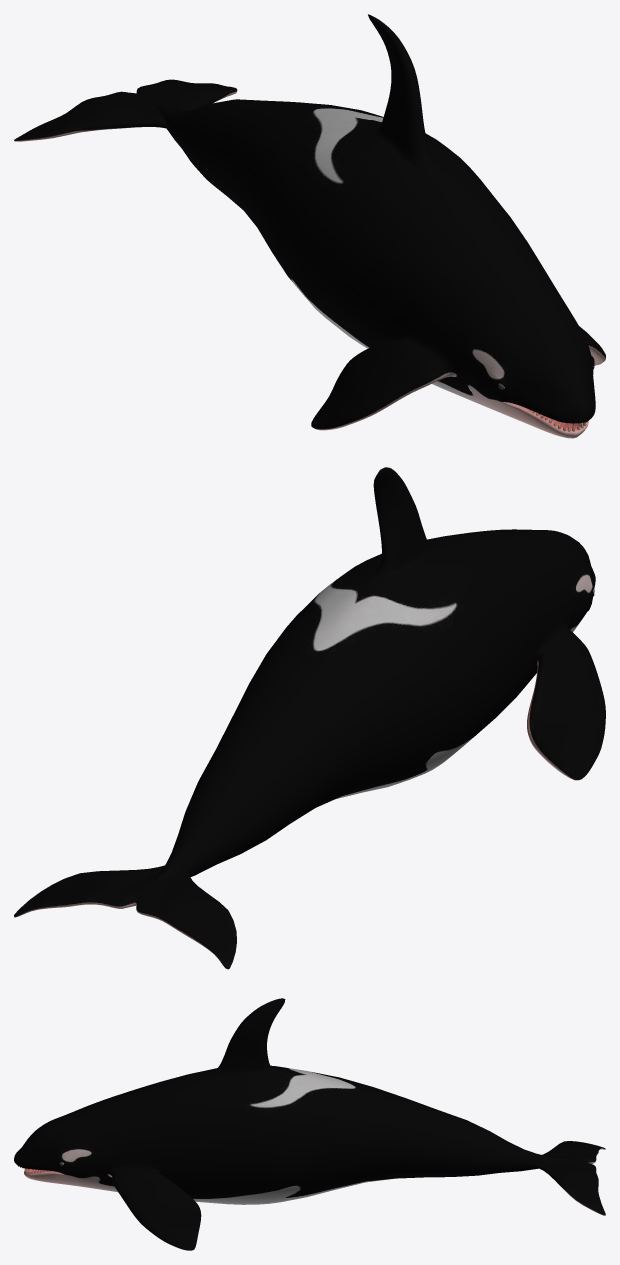
3 views of the same model, one above another, from view 1: azimuth 30°, elevation 25°; view 2: azimuth 150°, elevation 25°; view 3: azimuth 270°, elevation 25° (orthographic). The views are drawn at different scales.
Parts seen in each view (by area): view 1: MS_Orca; view 2: MS_Orca; view 3: MS_Orca.
Part boxes in pixels (left/top/right/bottom): MS_Orca: left=14, top=14, right=605, bottom=438; MS_Orca: left=14, top=467, right=605, bottom=969; MS_Orca: left=14, top=998, right=605, bottom=1250.
Bounding box in the file's own units: 1.67 × 1.92 × 4.93.
1 material, 1 textured.
